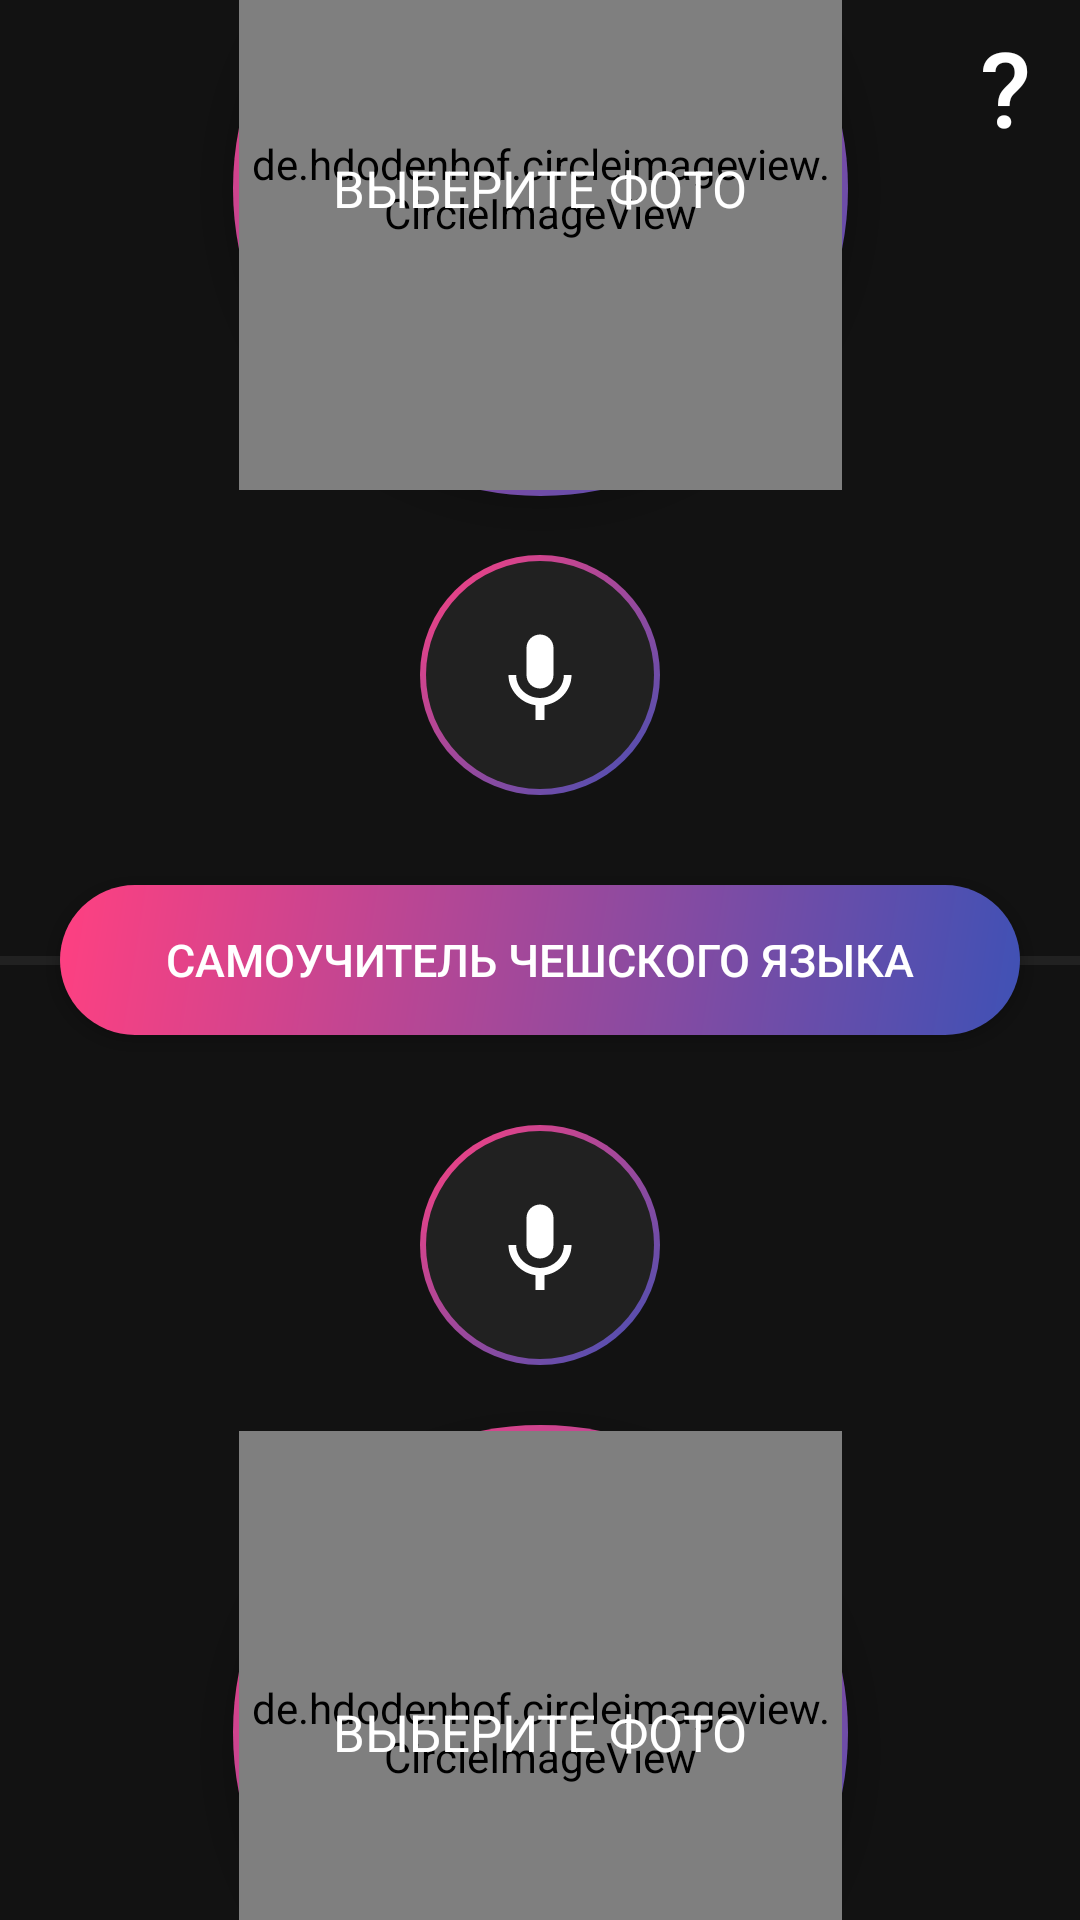

Icons on this 1080w x 1920h Android screen, each with the point to tap as (x=x, y=y):
keyboard voice: (x=540, y=675), (x=540, y=1245)
